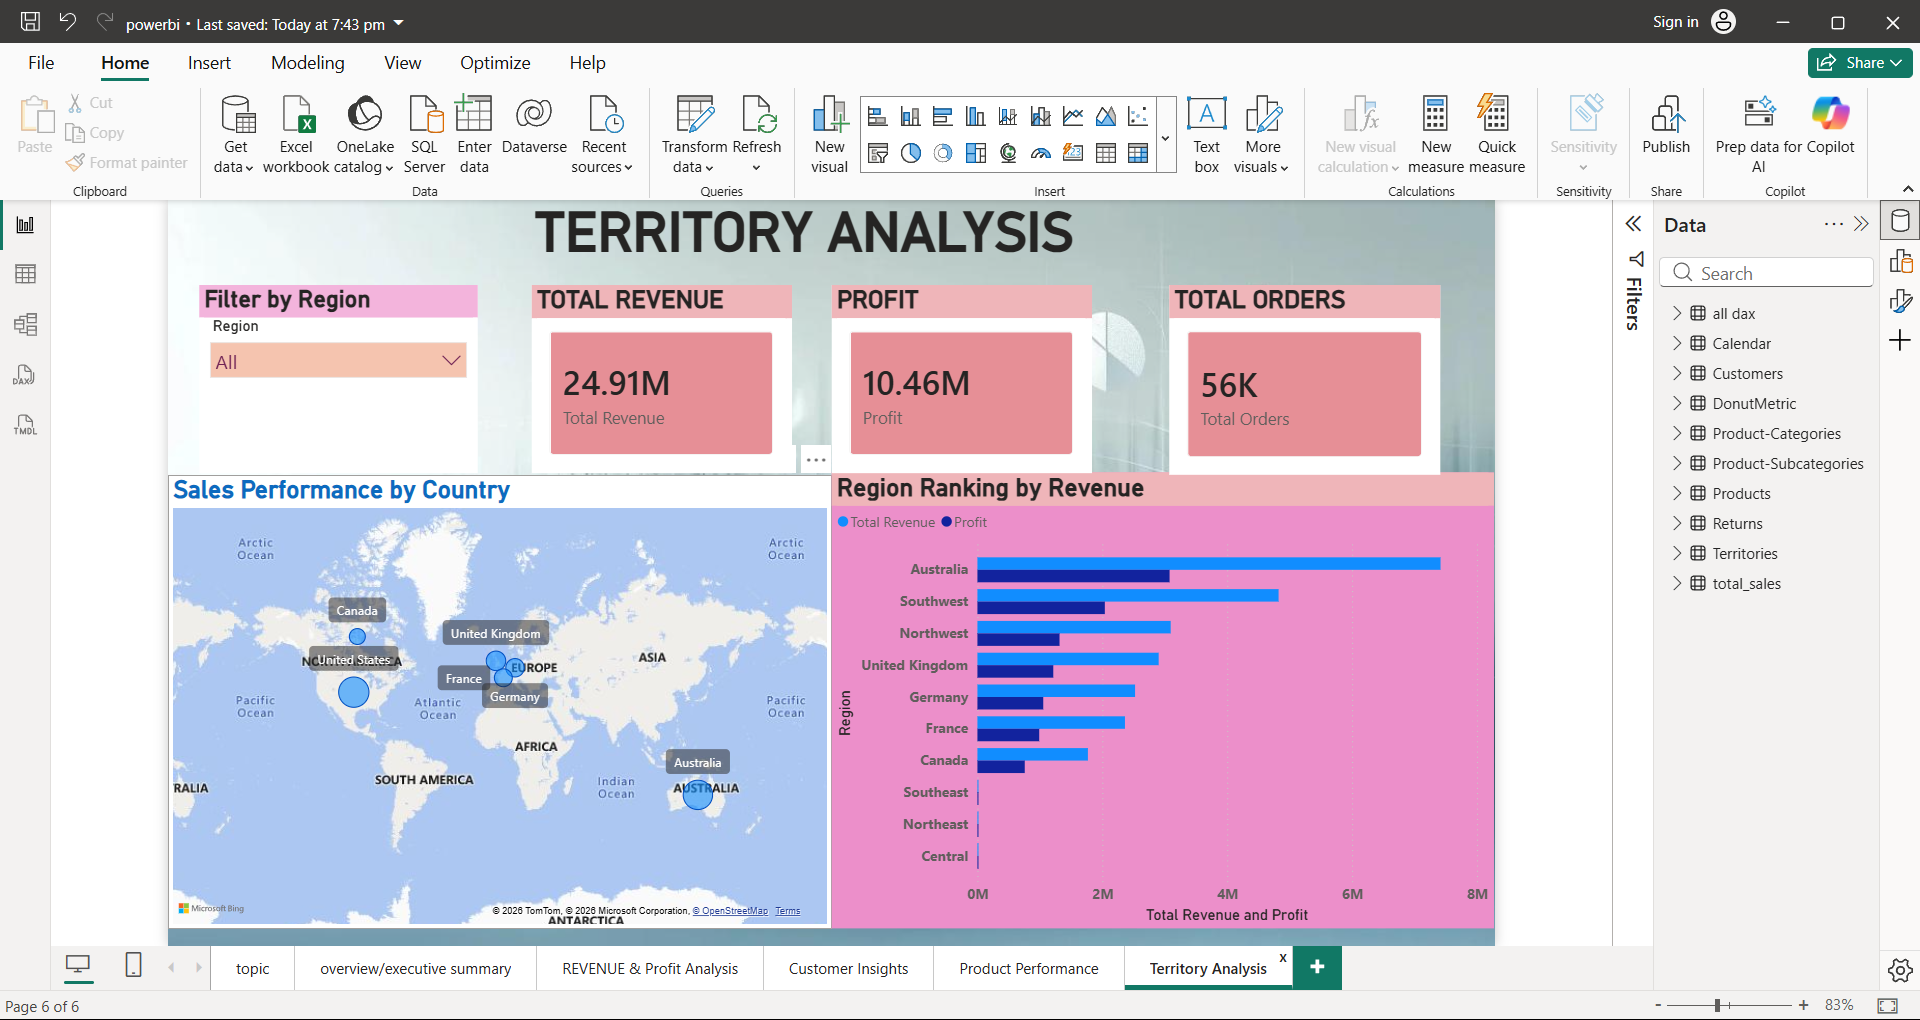

The page's visual inventory and layout, read from the dashboard file:
{"tool":"powerbi","page":{"name":"Territory Analysis","canvas":[1280,720],"ordinal":5},"visuals":[{"type":"map","title":"Sales Performance by Country","fields":{"Category":["Territories.Country"],"Size":["total_sales.Total Revenue"]},"box":[0,265.2,640.7,437.8],"z":0},{"type":"clusteredBarChart","title":"Region Ranking by Revenue","fields":{"Category":["Territories.Region"],"Y":["total_sales.Total Revenue","total_sales.Profit"]},"box":[640.7,263.4,638.9,439.6],"z":1000},{"type":"cardVisual","title":"TOTAL REVENUE","fields":{"Data":["total_sales.Total Revenue"]},"box":[350.6,81.9,250.9,181.5],"z":2000},{"type":"cardVisual","title":"PROFIT","fields":{"Data":["total_sales.Profit"]},"box":[640.7,81.9,250.9,181.5],"z":3000},{"type":"cardVisual","title":"TOTAL ORDERS","fields":{"Data":["total_sales.Total Orders"]},"box":[966.4,81.9,261.6,183.3],"z":4000},{"type":"slicer","title":"Filter by Region","fields":{"Values":["Territories.Region"]},"box":[30.3,81.9,268.7,181.5],"z":5000},{"type":"textbox","title":"TERRITORY ANALYSIS","box":[348.4,0,584.5,64],"z":6000}]}

Visuals, with their boxes on the page's 1280x720 design canvas (x1, y1, x2, y2). These are canvas units, not pixel positions in the 1920x1020 screenshot, which may show the page scaled, cropped or inside an application window:
"Sales Performance by Country" map: box=[0, 265, 641, 703]
"Region Ranking by Revenue" clusteredBarChart: box=[641, 263, 1280, 703]
"TOTAL REVENUE" cardVisual: box=[351, 82, 602, 263]
"PROFIT" cardVisual: box=[641, 82, 892, 263]
"TOTAL ORDERS" cardVisual: box=[966, 82, 1228, 265]
"Filter by Region" slicer: box=[30, 82, 299, 263]
"TERRITORY ANALYSIS" textbox: box=[348, 0, 933, 64]
